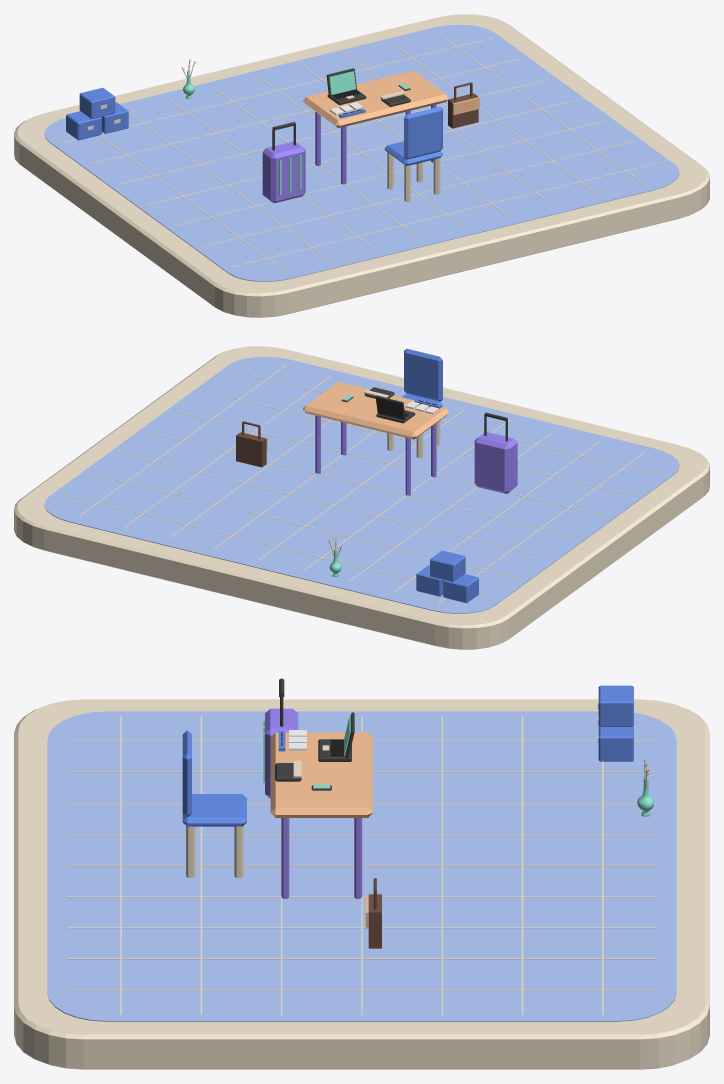
3 renders of one model, top to bottom at view 1: azimuth 30°, elevation 25°; view 2: azimuth 150°, elevation 25°; view 3: azimuth 270°, elevation 25°, orthographic. The views are drawn at different scales.
Visible parts, largest first — view 1: COM-02 Floor Surface, COM-01 Rounded Base Direct, Rounded table top, Shell, Backrest, Bag, Stacked case.002, Stacked case, Grout Y, Grout Y.001, Stacked case.001, Grout Y.002 (+4 smaller); view 2: COM-02 Floor Surface, COM-01 Rounded Base Direct, Rounded table top, Shell, Backrest, Bag, Stacked case.002, Stacked case, Grout Y.004, Stacked case.001, Grout Y.003, Grout Y.005 (+4 smaller); view 3: COM-02 Floor Surface, COM-01 Rounded Base Direct, Rounded table top, Seat, Stacked case.002, Stacked case.001, Grout X.008, Grout X.007, Grout X.006, Shell, Grout X.005, Grout X.004 (+8 smaller).
Boxes of the visible parts, <box> form: COM-02 Floor Surface: <box>44,24,679,281</box>; COM-01 Rounded Base Direct: <box>14,14,709,317</box>; Rounded table top: <box>303,70,449,128</box>; Shell: <box>262,141,305,203</box>; Backrest: <box>404,106,442,159</box>; Bag: <box>448,82,479,128</box>; Stacked case.002: <box>79,87,115,118</box>; Stacked case: <box>66,111,101,140</box>; Grout Y: <box>230,161,662,267</box>; Grout Y.001: <box>202,141,634,246</box>; Stacked case.001: <box>101,102,128,133</box>; Grout Y.002: <box>174,120,605,226</box>; COM-02 Floor Surface: <box>44,356,679,613</box>; COM-01 Rounded Base Direct: <box>14,346,709,649</box>; Rounded table top: <box>303,382,449,439</box>; Shell: <box>474,432,517,493</box>; Backrest: <box>404,348,442,401</box>; Bag: <box>236,421,267,467</box>; Stacked case.002: <box>430,550,465,581</box>; Stacked case: <box>443,574,478,603</box>; Grout Y.004: <box>118,452,549,558</box>; Stacked case.001: <box>416,565,443,596</box>; Grout Y.003: <box>146,431,577,537</box>; Grout Y.005: <box>89,473,521,578</box>; COM-02 Floor Surface: <box>47,711,676,1021</box>; COM-01 Rounded Base Direct: <box>14,699,709,1069</box>; Rounded table top: <box>270,732,372,817</box>; Seat: <box>182,794,246,826</box>; Stacked case.002: <box>598,685,633,726</box>; Stacked case.001: <box>598,726,633,761</box>; Grout X.008: <box>67,989,656,990</box>; Grout X.007: <box>67,958,656,959</box>; Grout X.006: <box>67,927,656,928</box>; Shell: <box>265,708,298,798</box>; Grout X.005: <box>67,896,656,897</box>; Grout X.004: <box>67,865,656,866</box>.
Size of the model in its own units: 6 by 1.35 by 5.2.
Materials: 1 (1 with a texture image).
